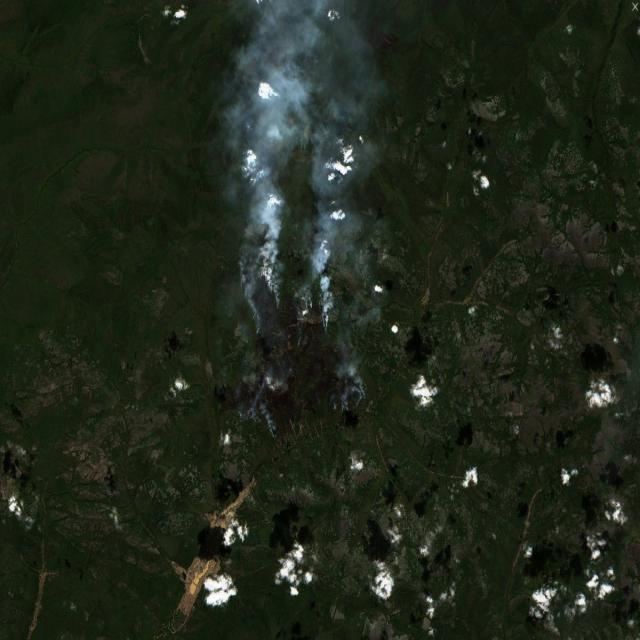fire: (230, 268, 368, 426)
